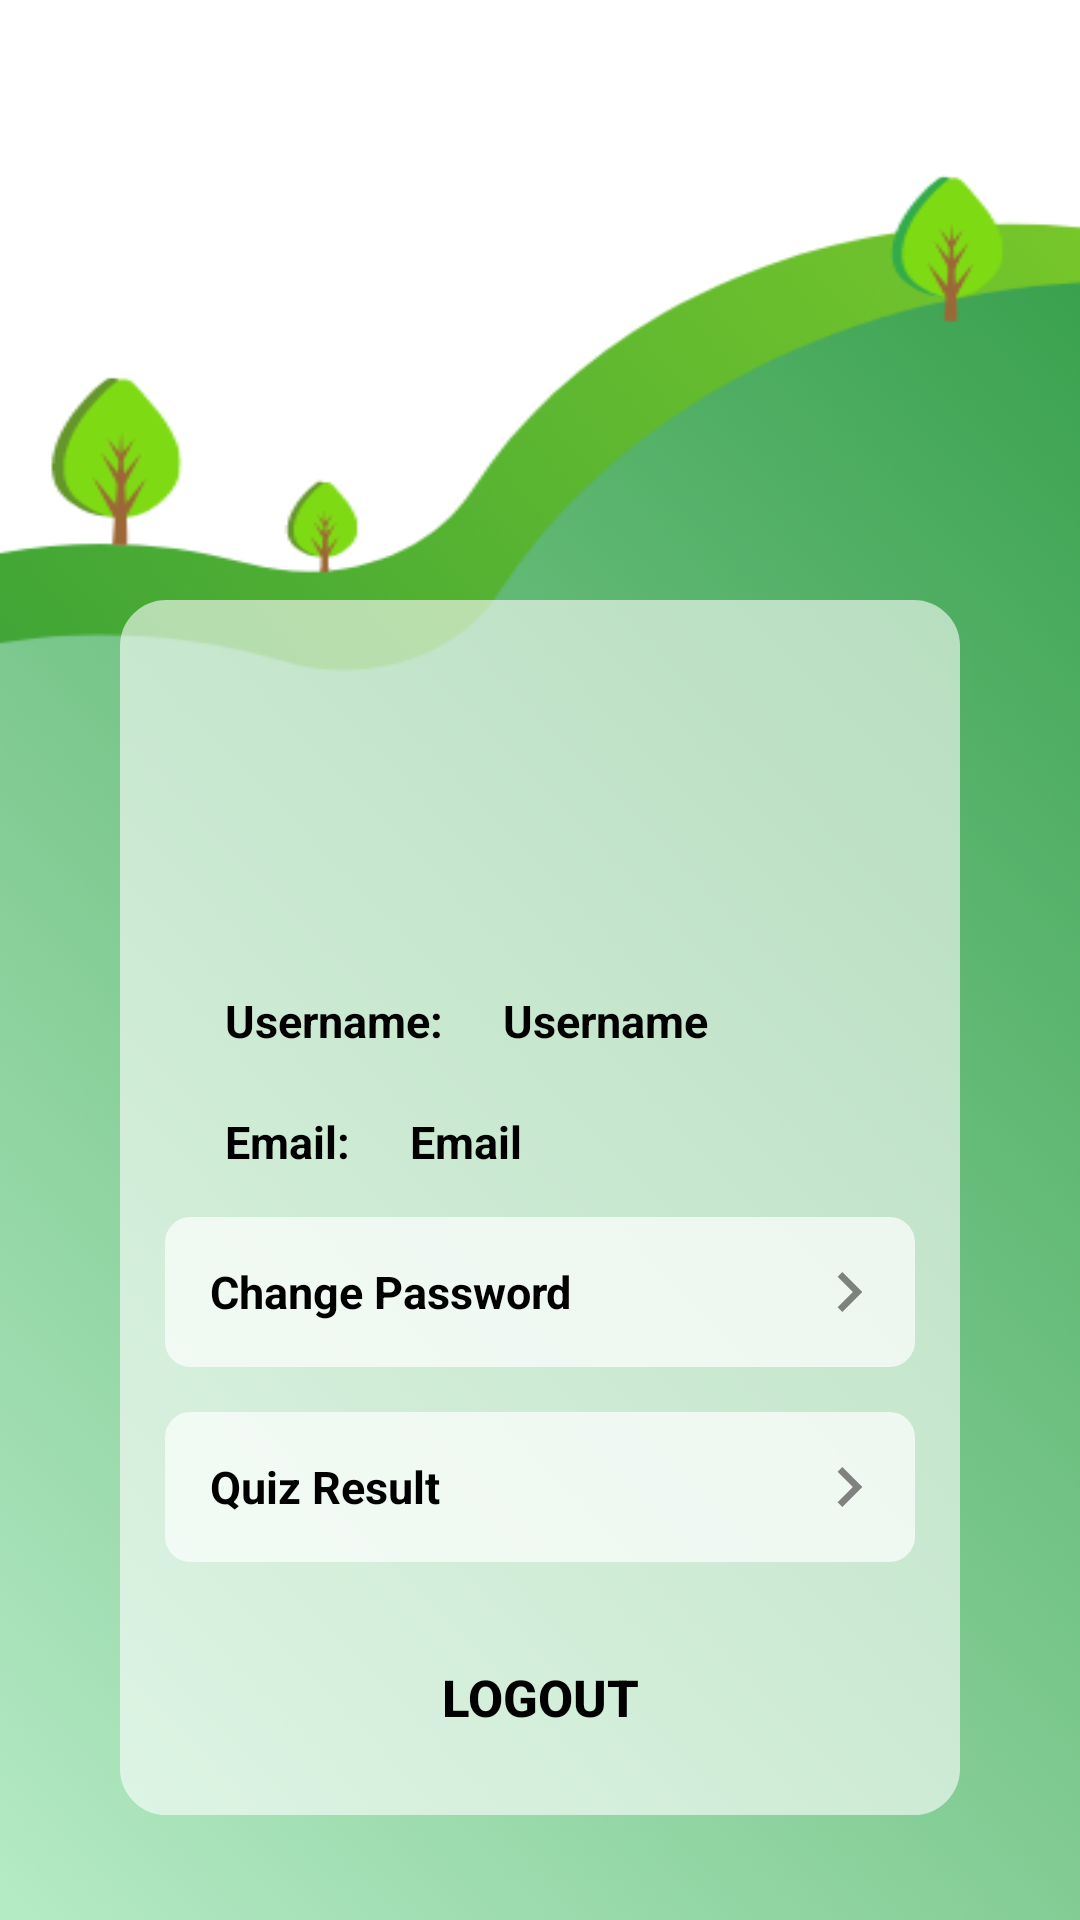

Screen size 1080w x 1920h. Icon name, then its center in pixels as (x,y):
next: (850,1292), (850,1487)
